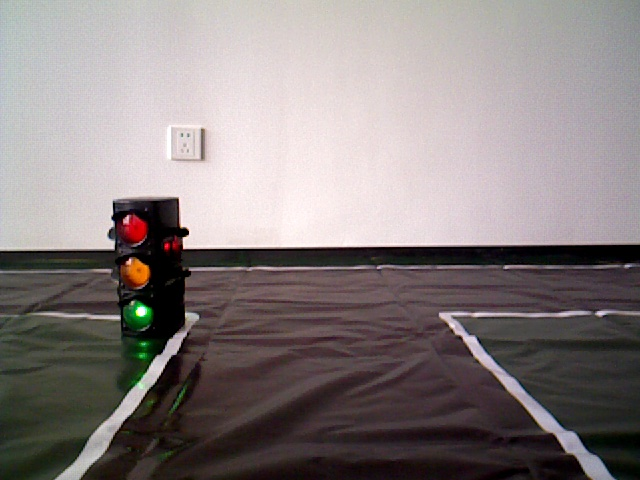green: (114, 202, 182, 327)
